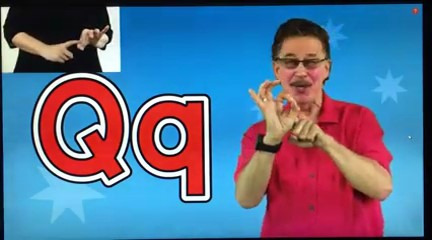Q: (242, 73, 330, 150)
